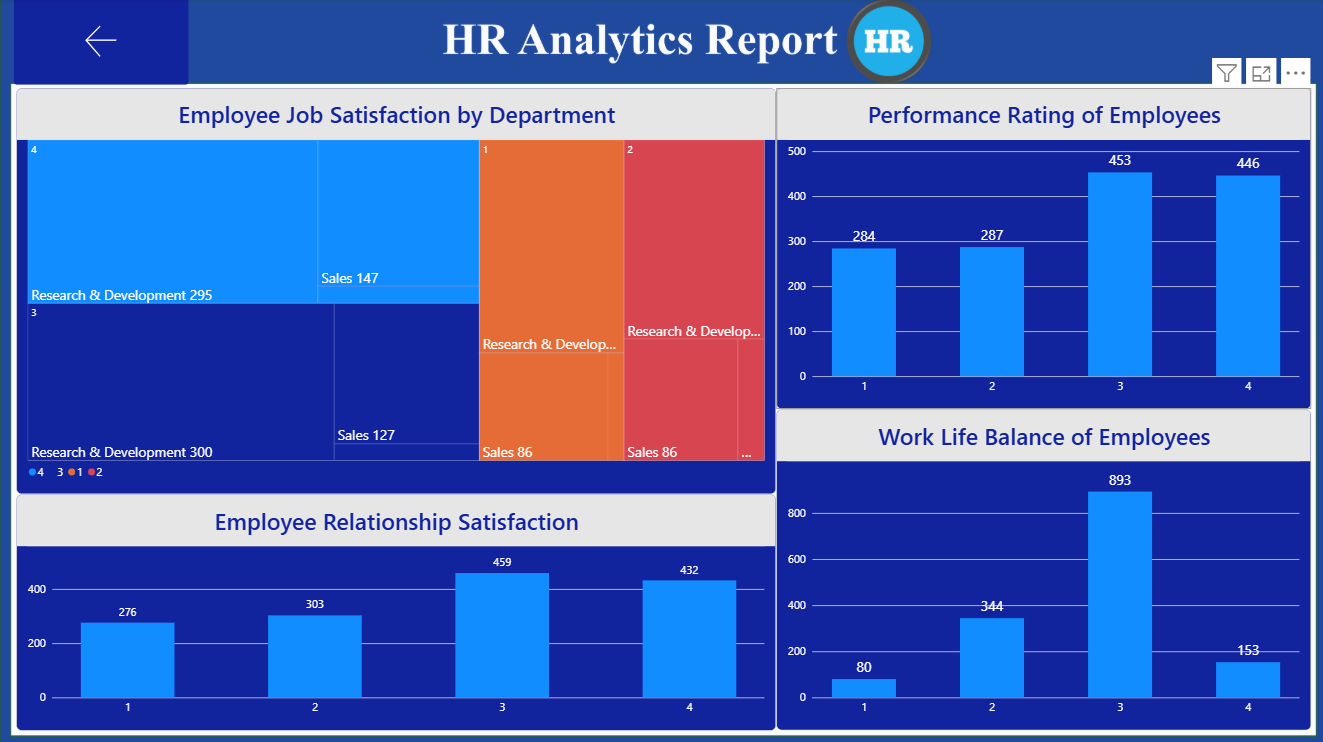

Layout of this report page (visuals, bound fields, positions):
{"tool":"powerbi","page":{"name":"Employee Performance & Satisfaction","canvas":[1920,1080],"ordinal":3},"visuals":[{"type":"treemap","title":"Employee Job Satisfaction by Department","fields":{"Details":["HR Analytics Data.Department"],"Group":["HR Analytics Data.JobSatisfaction"],"Values":["HR Analytics Data.Employee Count"]},"box":[23.5,130.3,1100.3,588.1],"z":0},{"type":"columnChart","title":"Performance Rating of Employees","fields":{"Category":["HR Analytics Data.EnvironmentSatisfaction"],"Y":["HR Analytics Data.Employee Count"]},"box":[1123.8,130.3,774.5,465.1],"z":1000},{"type":"columnChart","title":"Employee Relationship Satisfaction","fields":{"Category":["HR Analytics Data.RelationshipSatisfaction"],"Y":["HR Analytics Data.Employee Count"]},"box":[23.5,718.4,1100.3,342],"z":2000},{"type":"columnChart","title":"Work Life Balance of Employees","fields":{"Category":["HR Analytics Data.WorkLifeBalance"],"Y":["HR Analytics Data.Employee Count"]},"box":[1123.8,595.4,774.5,465.1],"z":3000},{"type":"actionButton","box":[19.5,0,253.2,125.5],"z":3001}]}

Visuals, with their boxes in screenshot pixels (x1, y1, x2, y2), scaled from the page's 1920x1080 canvas onto the 1323x742 screenshot:
"Employee Job Satisfaction by Department" treemap: 16, 90, 774, 494
"Performance Rating of Employees" columnChart: 774, 90, 1308, 409
"Employee Relationship Satisfaction" columnChart: 16, 494, 774, 729
"Work Life Balance of Employees" columnChart: 774, 409, 1308, 729
actionButton: 13, 0, 188, 86
